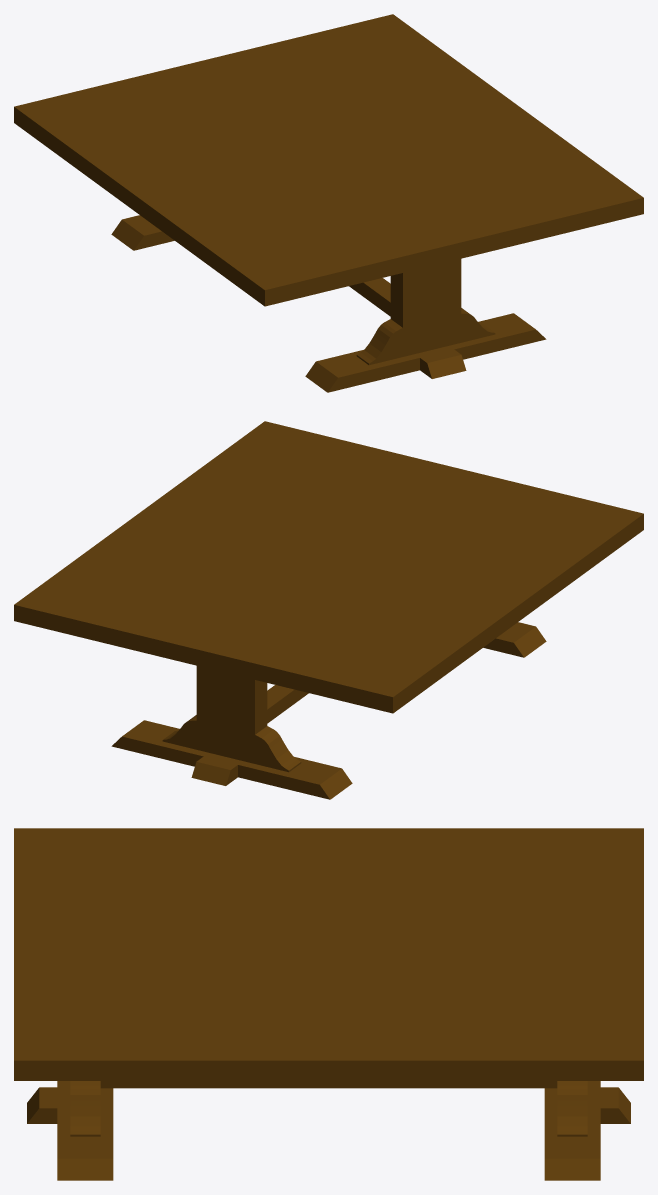
File: TableLong.fbx
The picture shows the model from 3 angles, top to bottom: view 1: azimuth 30°, elevation 25°; view 2: azimuth 150°, elevation 25°; view 3: azimuth 270°, elevation 25°; orthographic projection. The views are drawn at different scales.
Parts seen in each view (by area): view 1: Cube; view 2: Cube; view 3: Cube.
Part boxes in pixels (x1,y1,x2,y2): Cube: (14,14,643,392); Cube: (14,421,643,799); Cube: (14,828,643,1180).
Bounding box in the file's own units: 1962 × 666 × 2249.
